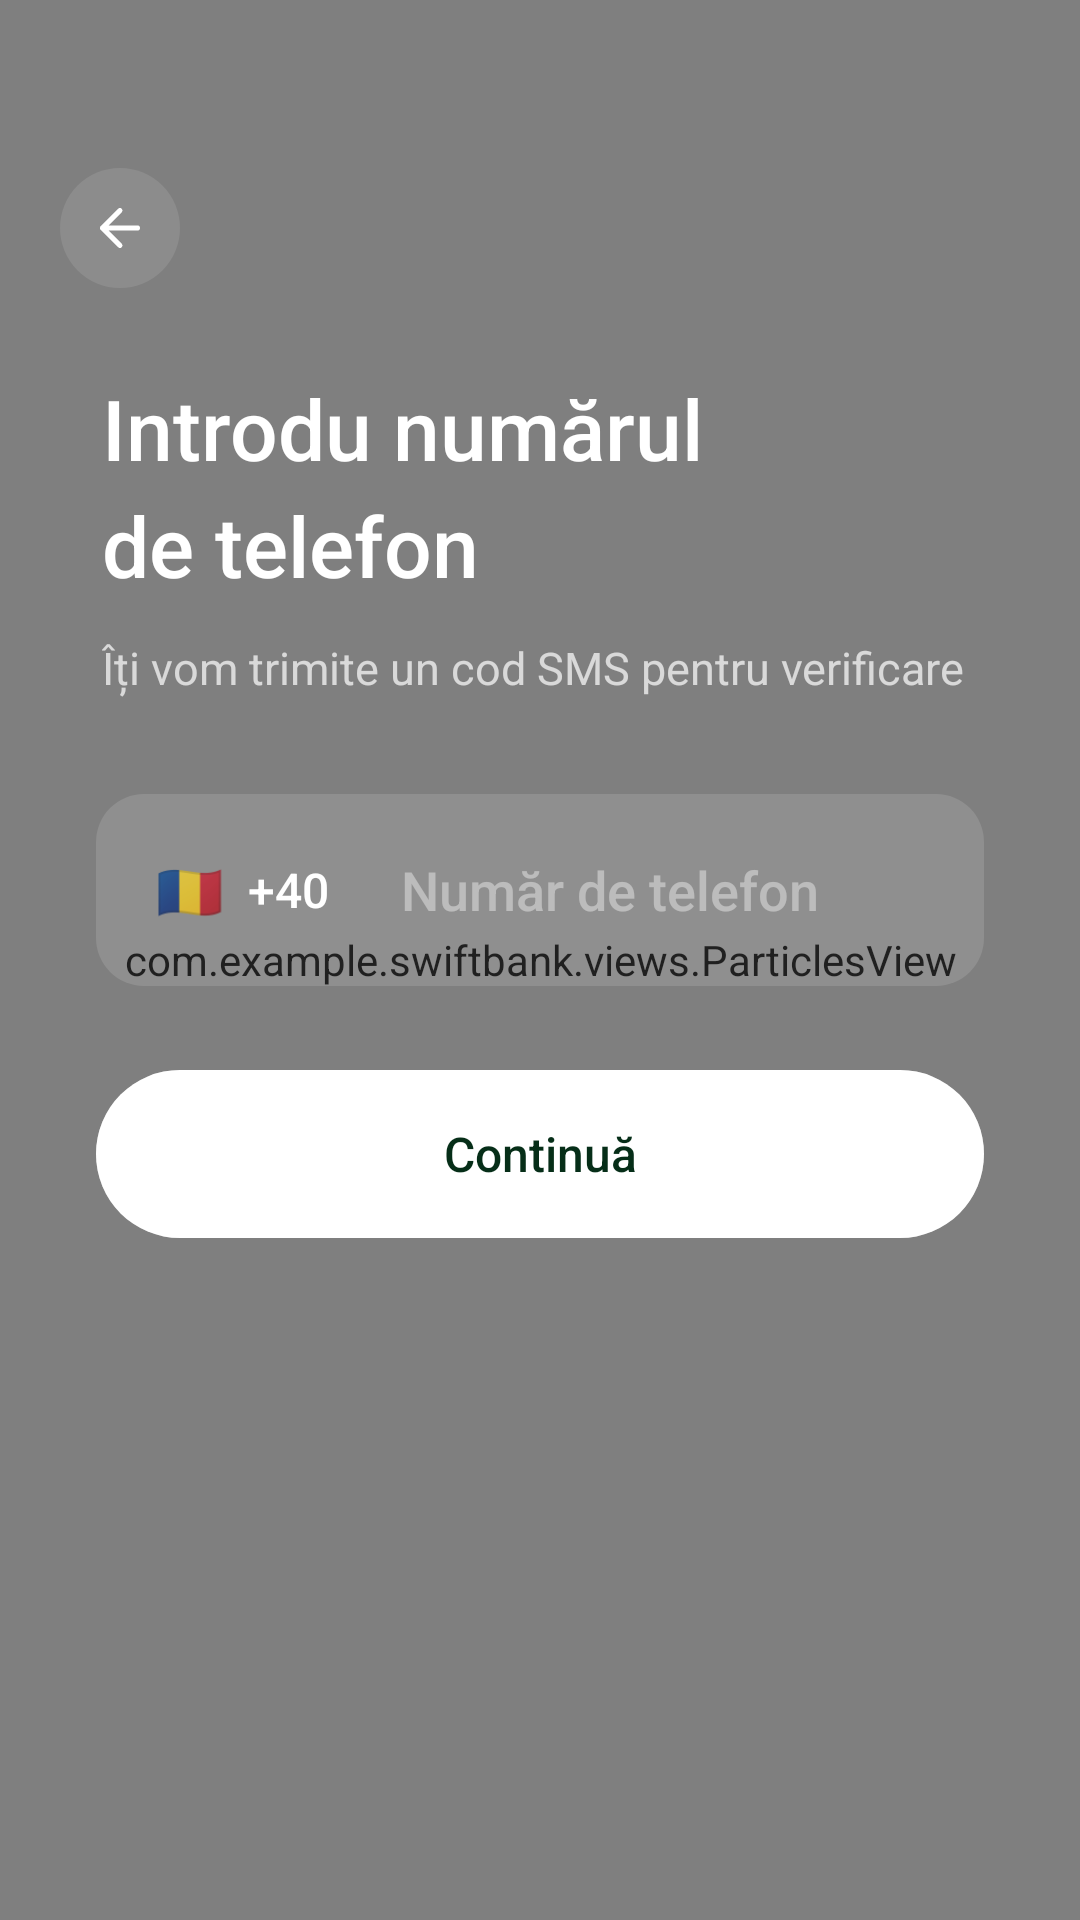

Locate icon controls on the screen. Image size 1080 × 1920, boxes as (x1, y1, x2, y2).
Înapoi: (60, 168, 180, 288)
